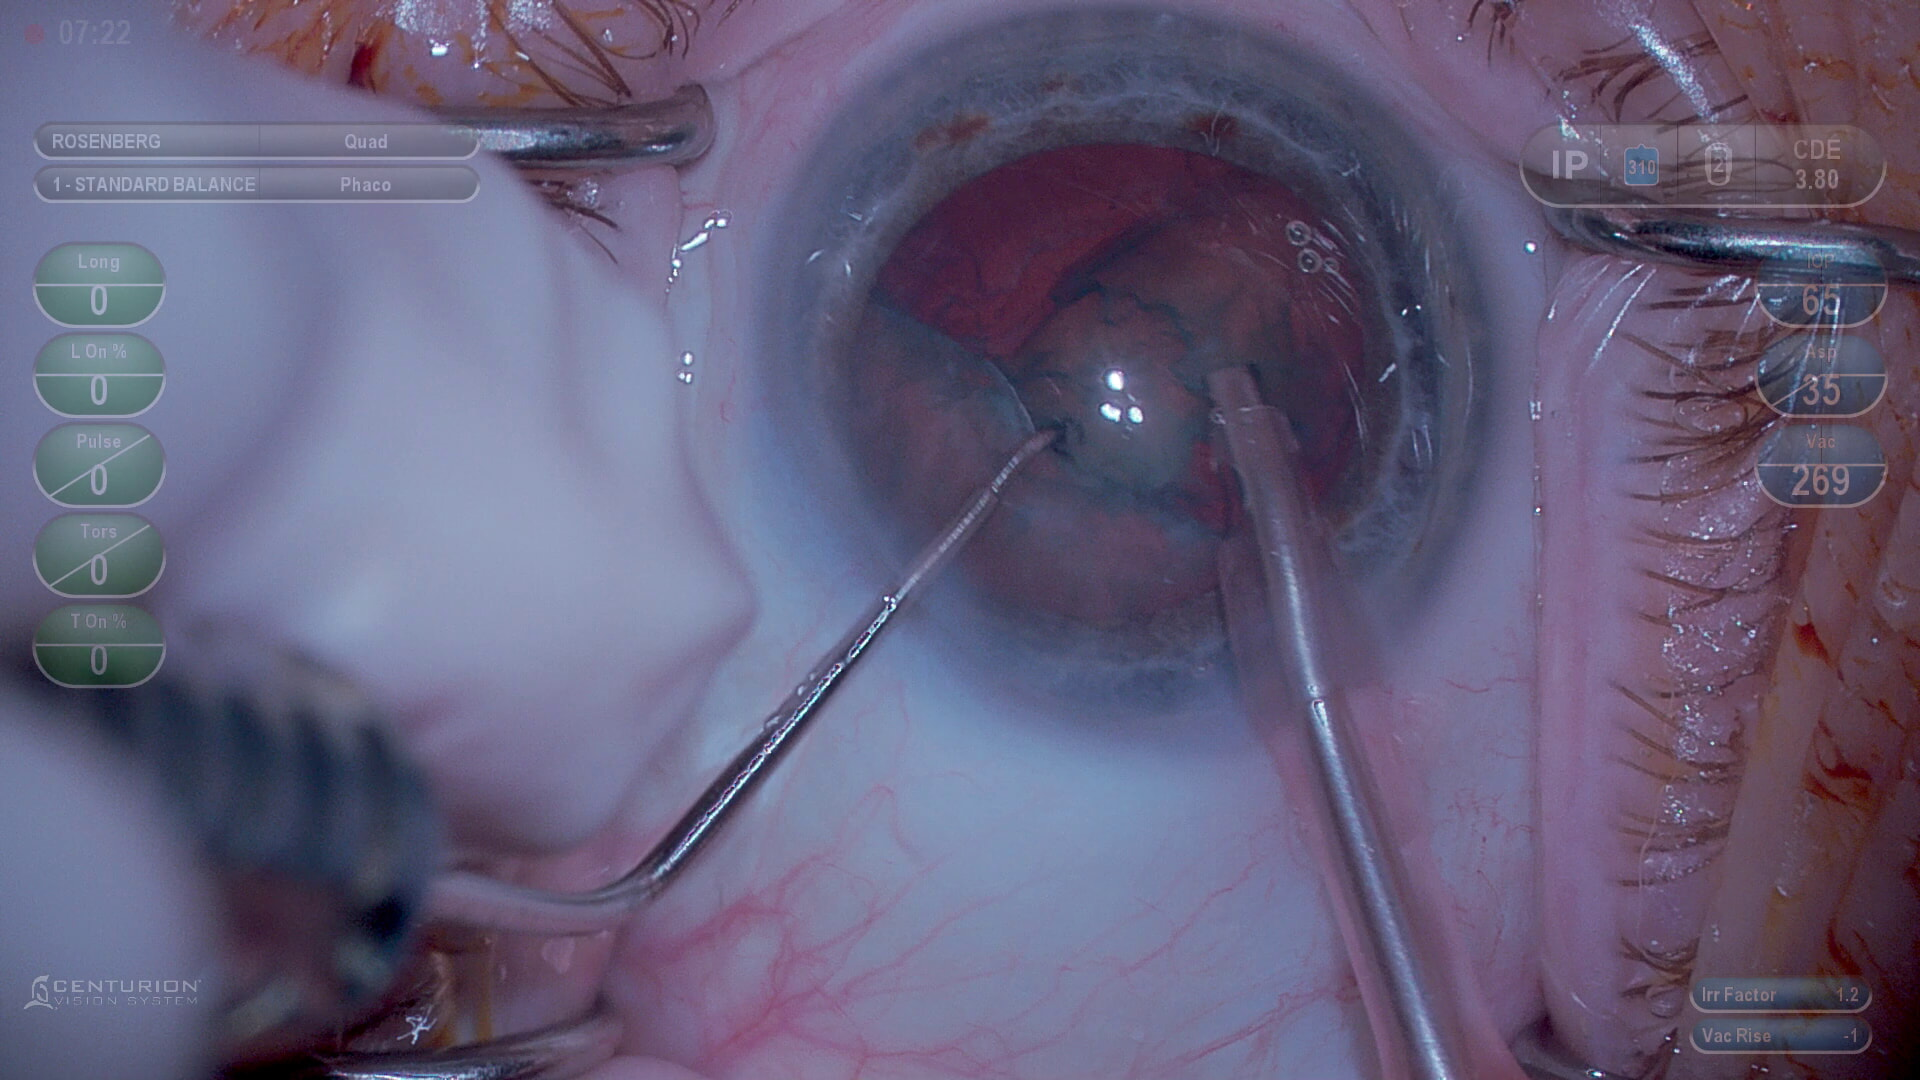iris: (767, 17, 1488, 712)
pupil: (847, 133, 1399, 624)
